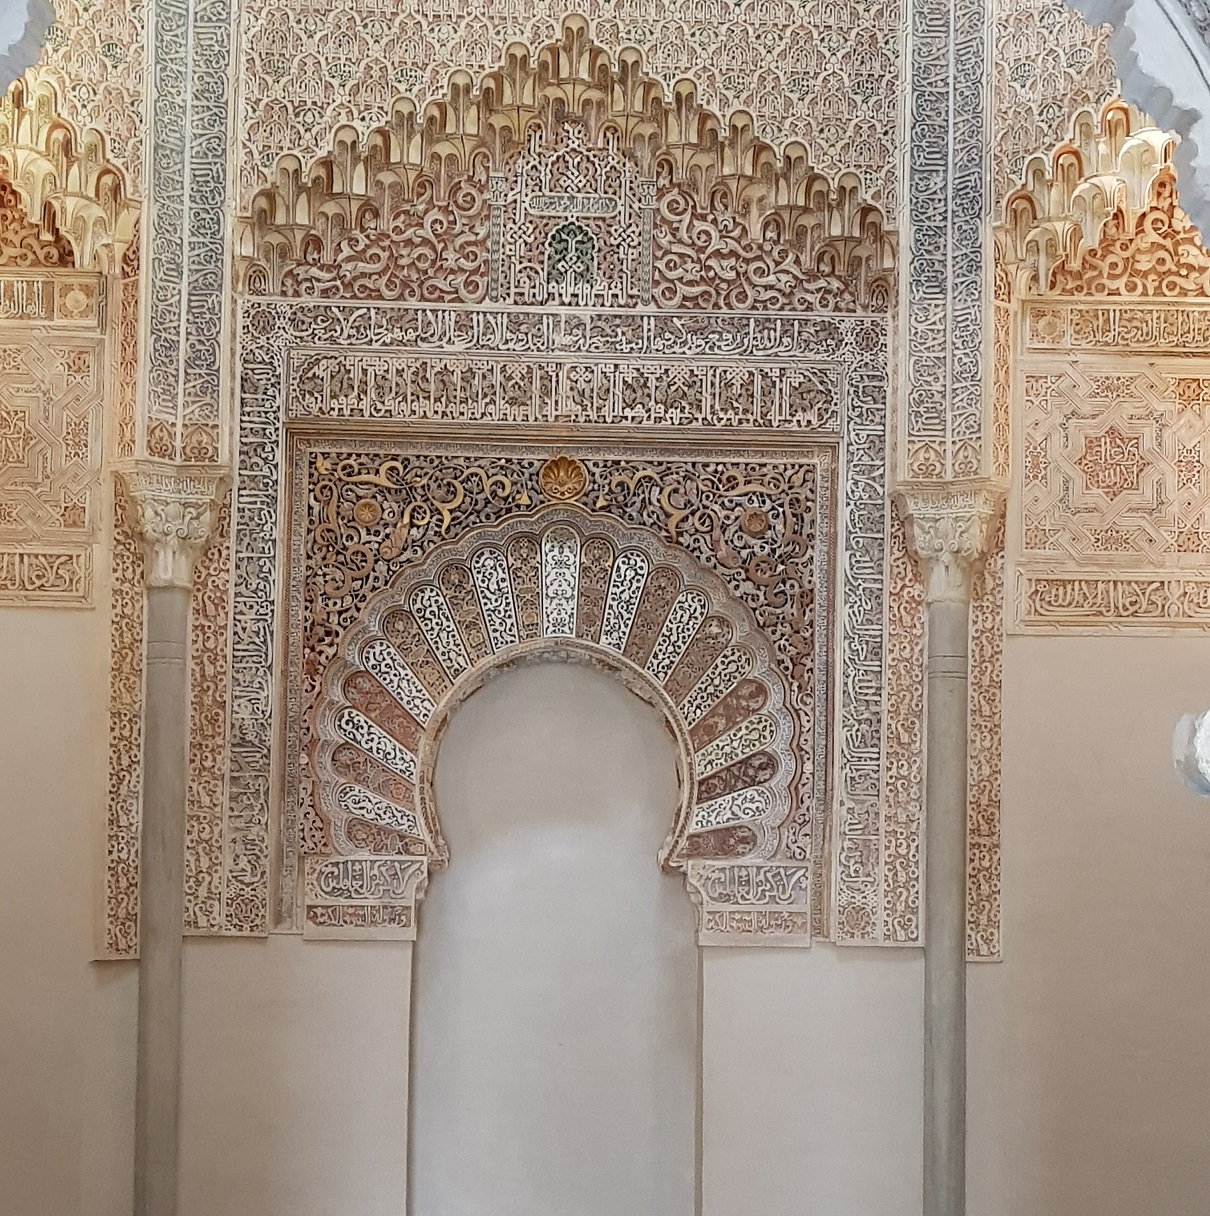arco-herradura: (399, 616, 717, 930)
